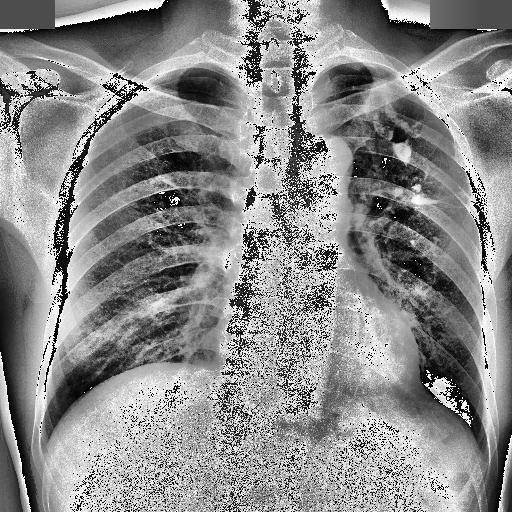0- Aortic enlargement: (288, 132, 354, 196)
11- Pleural thickening: (346, 60, 400, 74)
13- Pulmonary fibrosis: (368, 100, 471, 210), (388, 172, 465, 208)
2- Calcification: (368, 100, 471, 210), (374, 97, 422, 164), (388, 172, 465, 208), (372, 96, 422, 139), (392, 184, 440, 204), (394, 142, 411, 162)
